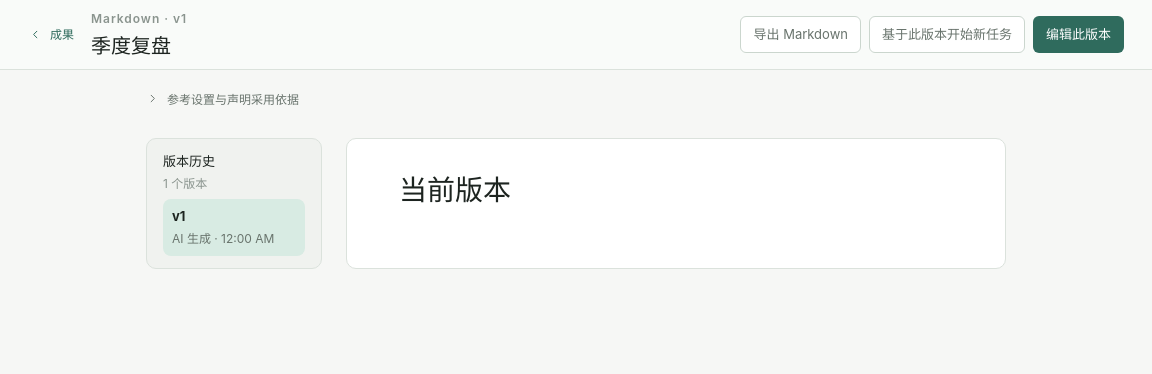
Test: ArtifactPage › shows the current version read failure in the Artifact page
Click the button with aria-label "打开版本 v1": point(234, 228) [163,199,305,256]
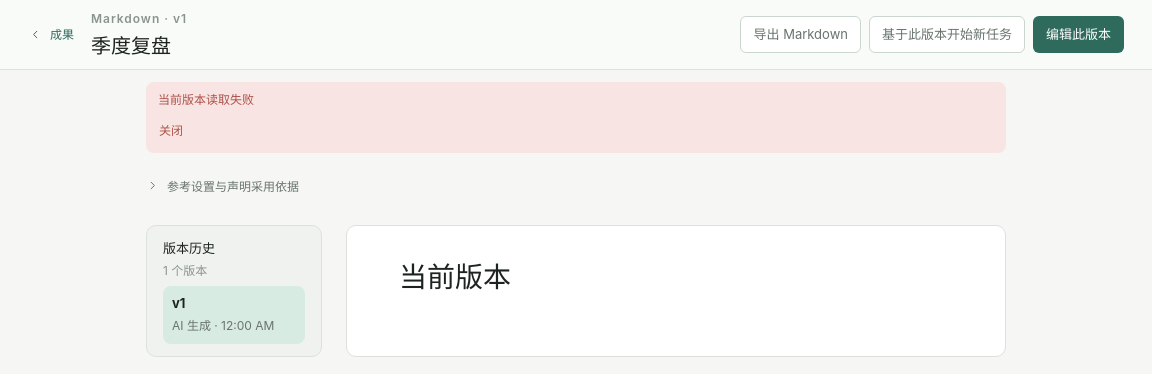
Check: the message shows "当前版本读取失败", box [158,92,254,107]
